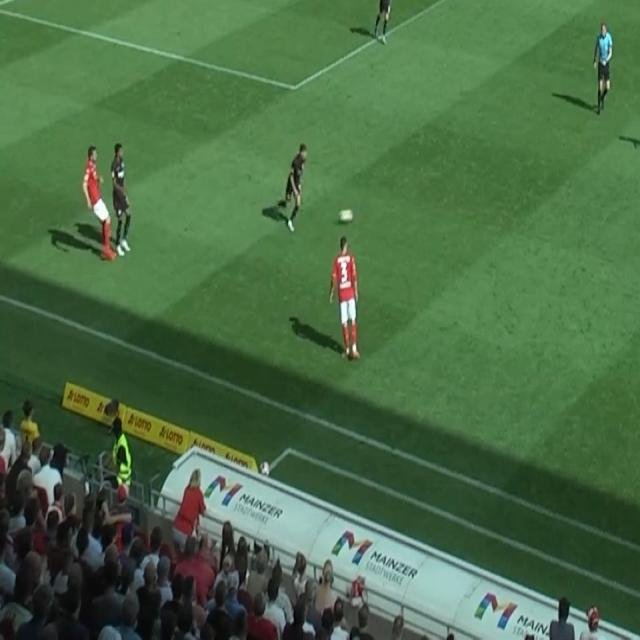ball: (338, 207, 354, 224)
